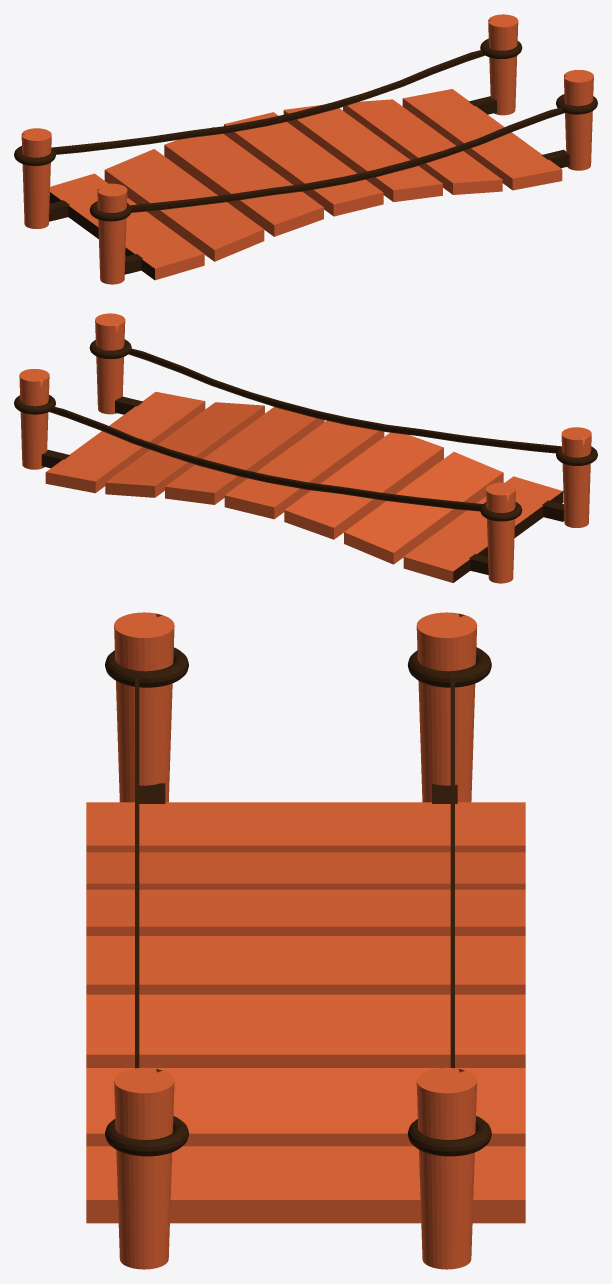
File: puente 1.fbx
3 renders of one model, top to bottom at view 1: azimuth 30°, elevation 25°; view 2: azimuth 150°, elevation 25°; view 3: azimuth 270°, elevation 25°, orthographic. The views are drawn at different scales.
Visible parts, largest first — view 1: Cylinder; view 2: Cylinder; view 3: Cylinder.
Part boxes in pixels (box(x1,y1,x2,y2)): Cylinder: box(14, 14, 597, 284); Cylinder: box(14, 313, 597, 583); Cylinder: box(86, 612, 525, 1269).
Size of the model in its own units: 2023 by 344 by 766.
